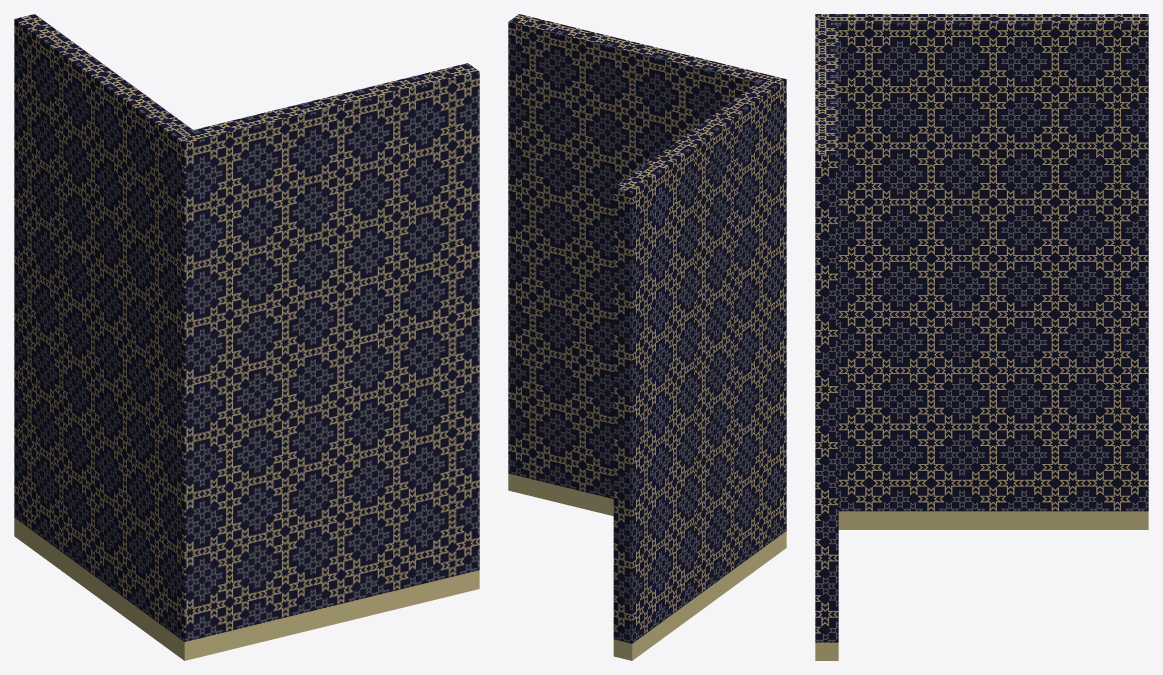
Rendered from ARC0210019.fbx.
3 views of the same model, side by side, from view 1: azimuth 30°, elevation 25°; view 2: azimuth 150°, elevation 25°; view 3: azimuth 270°, elevation 25° (orthographic). The views are drawn at different scales.
Parts seen in each view (by area): view 1: smARC0210019; view 2: smARC0210019; view 3: smARC0210019.
Boxes of the visible parts, box(x1,y1,x2,y2) form: smARC0210019: box(14, 14, 479, 660); smARC0210019: box(508, 14, 786, 660); smARC0210019: box(815, 14, 1148, 660).
Size of the model in its own units: 196 by 328 by 196.
Materials: 1 (1 with a texture image).
